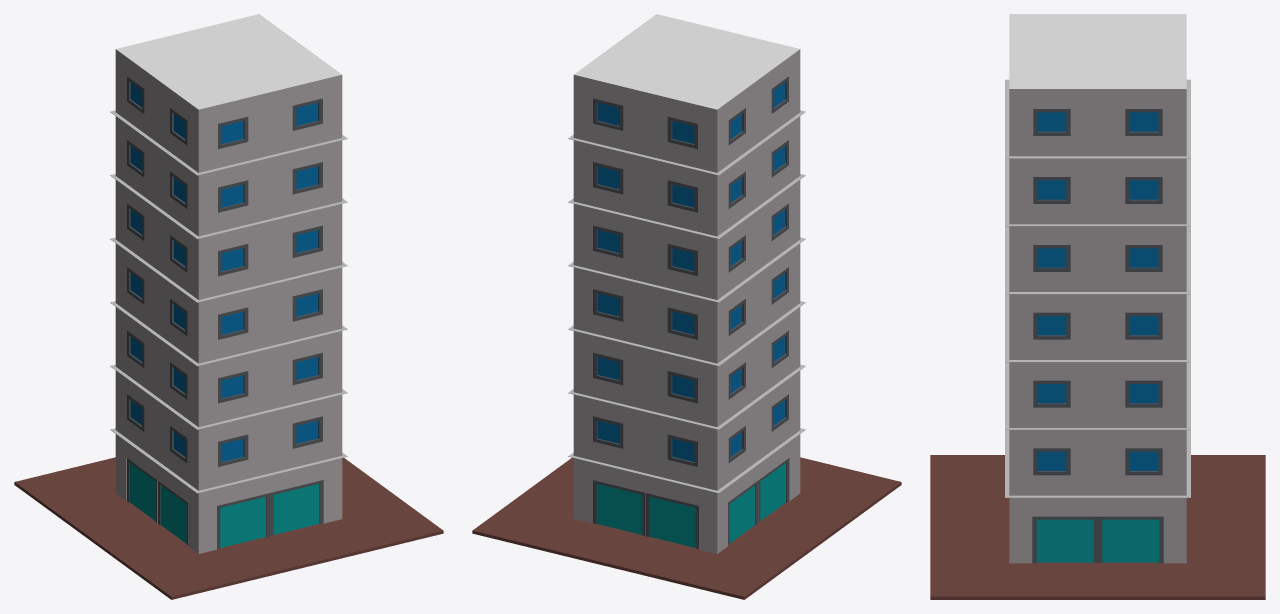
File: building2.fbx
3 views of the same model, side by side, from view 1: azimuth 30°, elevation 25°; view 2: azimuth 150°, elevation 25°; view 3: azimuth 270°, elevation 25° (orthographic). The views are drawn at different scales.
Visible parts, largest first — view 1: building_002; view 2: building_002; view 3: building_002.
Boxes of the visible parts, x1=… form: building_002: x1=14, y1=14, x2=443, y2=599; building_002: x1=472, y1=14, x2=901, y2=599; building_002: x1=930, y1=14, x2=1265, y2=599.
Size of the model in its own units: 9.73 by 15.3 by 9.73.
